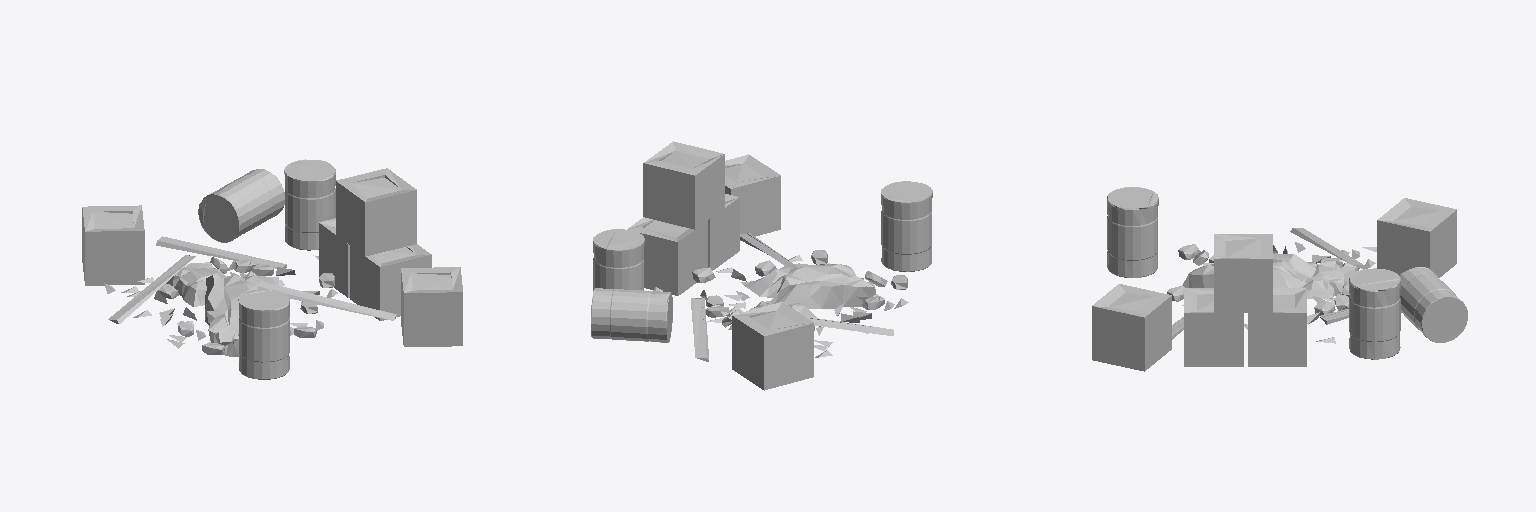
Rendered from robotspawncamp2_low.obj.
The picture shows the model from 3 angles: view 1: azimuth 30°, elevation 25°; view 2: azimuth 150°, elevation 25°; view 3: azimuth 270°, elevation 25°; orthographic projection.
Parts seen in each view (by area): view 1: pCube49, pCube51, pCube50, pCylinder2, pCylinder1, boxxe:pCylinder1, pCube48, pCube2, boxwood:pCube1, pCube1, pCube4, pCube3 (+1 smaller); view 2: pCube51, pCube49, pCylinder2, boxwood:pCube1, pCube2, pCylinder1, pCube50, boxxe:pCylinder1, pCube48, pCube3, pCube47; view 3: pCube50, pCube51, pCube49, boxxe:pCylinder1, pCylinder2, boxwood:pCube1, pCube48, pCylinder1, pCube2, pCube1, pCube47.
Boxes of the visible parts, x1,y1,x2,y2 form: pCube49: [336, 168, 416, 256]; pCube51: [82, 205, 144, 285]; pCube50: [401, 267, 462, 346]; pCylinder2: [238, 289, 289, 379]; pCylinder1: [198, 169, 284, 242]; boxxe:pCylinder1: [284, 159, 335, 250]; pCube48: [350, 244, 431, 320]; pCube2: [205, 274, 278, 356]; boxwood:pCube1: [319, 218, 349, 297]; pCube1: [166, 262, 228, 306]; pCube4: [258, 281, 396, 320]; pCube3: [156, 236, 286, 268]; pCube51: [732, 302, 813, 390]; pCube49: [643, 141, 724, 229]; pCylinder2: [881, 181, 932, 271]; boxwood:pCube1: [627, 217, 707, 295]; pCube2: [741, 263, 875, 308]; pCylinder1: [591, 288, 672, 342]; pCube50: [725, 154, 780, 240]; boxxe:pCylinder1: [593, 229, 644, 290]; pCube48: [708, 194, 739, 270]; pCube3: [691, 298, 708, 361]; pCube47: [805, 316, 893, 335]; pCube50: [1092, 284, 1171, 371]; pCube51: [1377, 198, 1456, 277]; pCube49: [1214, 234, 1272, 312]; boxxe:pCylinder1: [1349, 268, 1400, 359]; pCylinder2: [1107, 187, 1158, 277]; boxwood:pCube1: [1248, 288, 1306, 366]; pCube48: [1184, 288, 1243, 366]; pCylinder1: [1400, 267, 1467, 342]; pCube2: [1182, 253, 1315, 287]; pCube1: [1301, 262, 1359, 298]; pCube47: [1290, 228, 1364, 268].
Bounding box in the file's own units: 22.34 × 9.23 × 26.62.